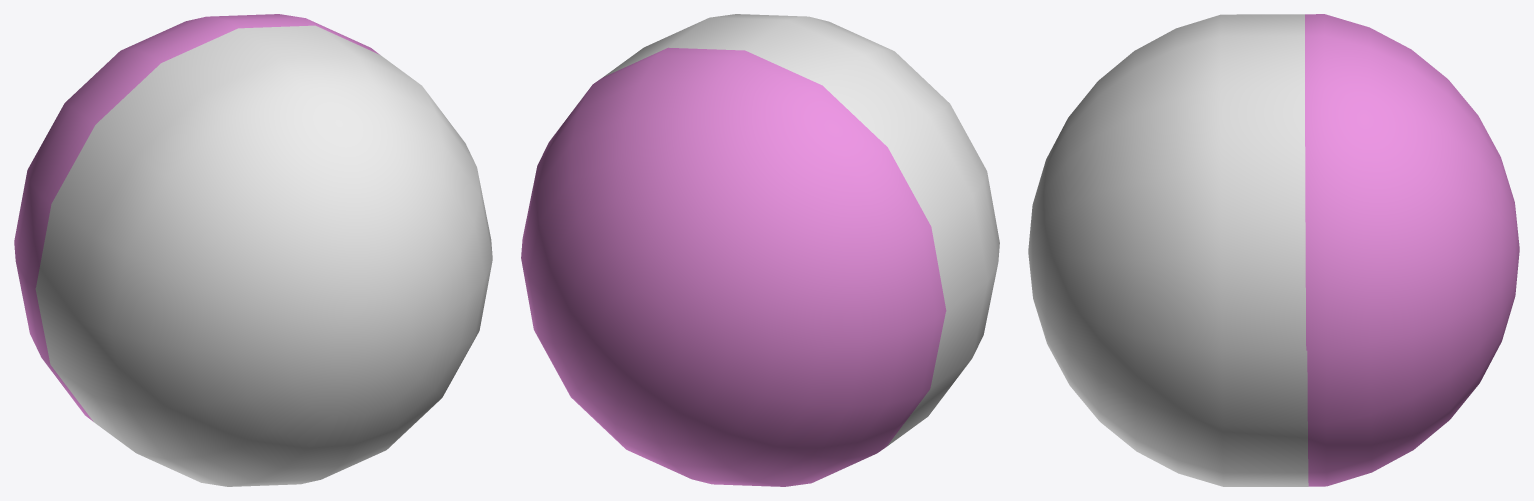
Rendered from CapsuleOnly.fbx.
3 views of the same model, side by side, from view 1: azimuth 30°, elevation 25°; view 2: azimuth 150°, elevation 25°; view 3: azimuth 270°, elevation 25° (orthographic).
Visible parts, largest first — view 1: Capsule.001, Capsule; view 2: Capsule, Capsule.001; view 3: Capsule.001, Capsule.
Part boxes in pixels (left/top/right/bottom): Capsule.001: left=35, top=25, right=492, bottom=486; Capsule: left=14, top=14, right=379, bottom=421; Capsule: left=521, top=47, right=946, bottom=486; Capsule.001: left=603, top=14, right=999, bottom=446; Capsule.001: left=1028, top=14, right=1308, bottom=486; Capsule: left=1305, top=14, right=1519, bottom=486.
Bounding box in the file's own units: 54.17 × 54.23 × 56.31.
